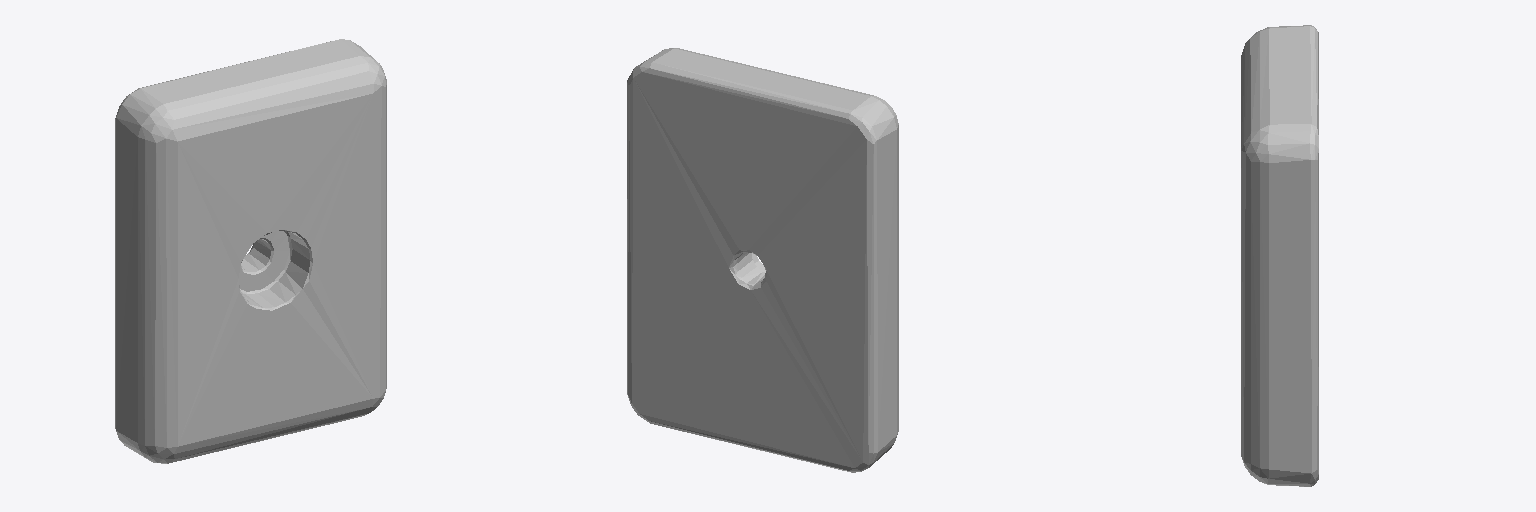
Rendered from weight_center2_vis.obj.
The picture shows the model from 3 angles: view 1: azimuth 30°, elevation 25°; view 2: azimuth 150°, elevation 25°; view 3: azimuth 270°, elevation 25°; orthographic projection.
Parts seen in each view (by area): view 1: Weight_center2_vis; view 2: Weight_center2_vis; view 3: Weight_center2_vis.
Part boxes in pixels (left/top/right/bottom): Weight_center2_vis: left=115, top=39, right=386, bottom=463; Weight_center2_vis: left=627, top=48, right=898, bottom=472; Weight_center2_vis: left=1241, top=25, right=1318, bottom=486.
Size of the model in its own units: 0.0415 by 0.0574 by 0.0112.